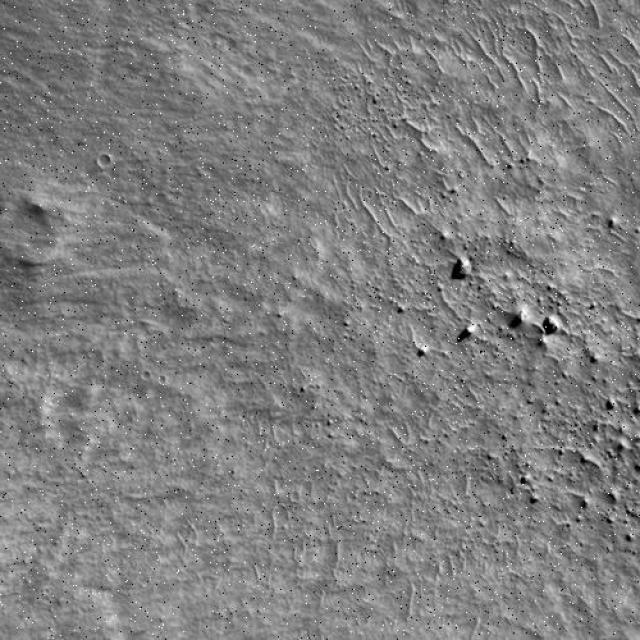crater: (1, 194, 66, 270)
